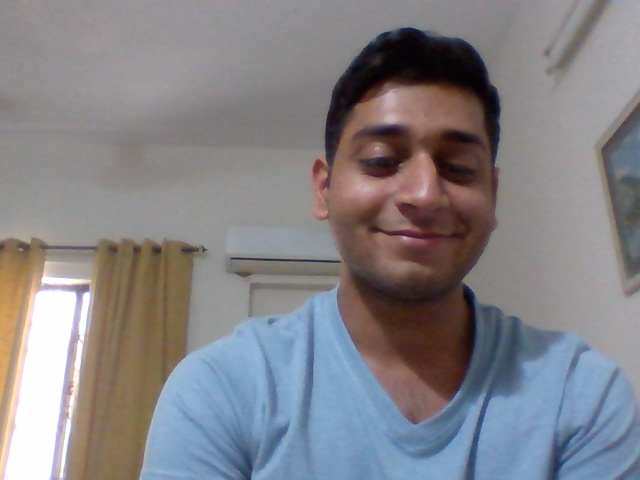happy: (298, 104, 539, 302)
